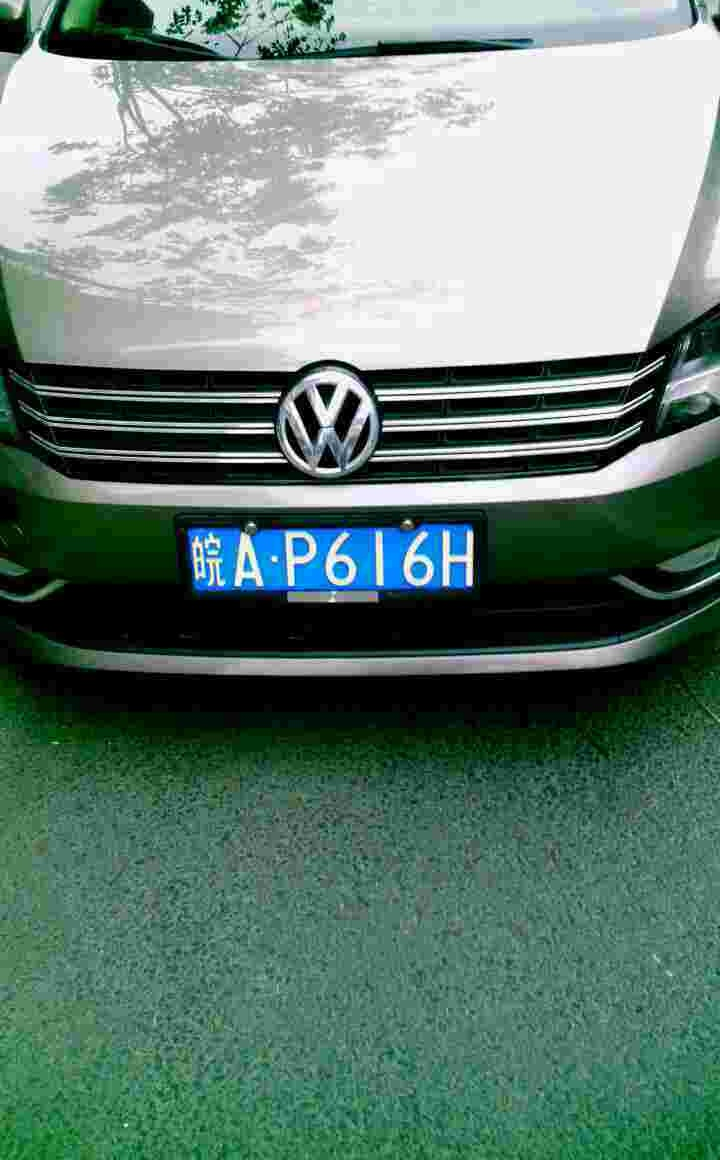license_plate: (187, 519, 482, 598)
